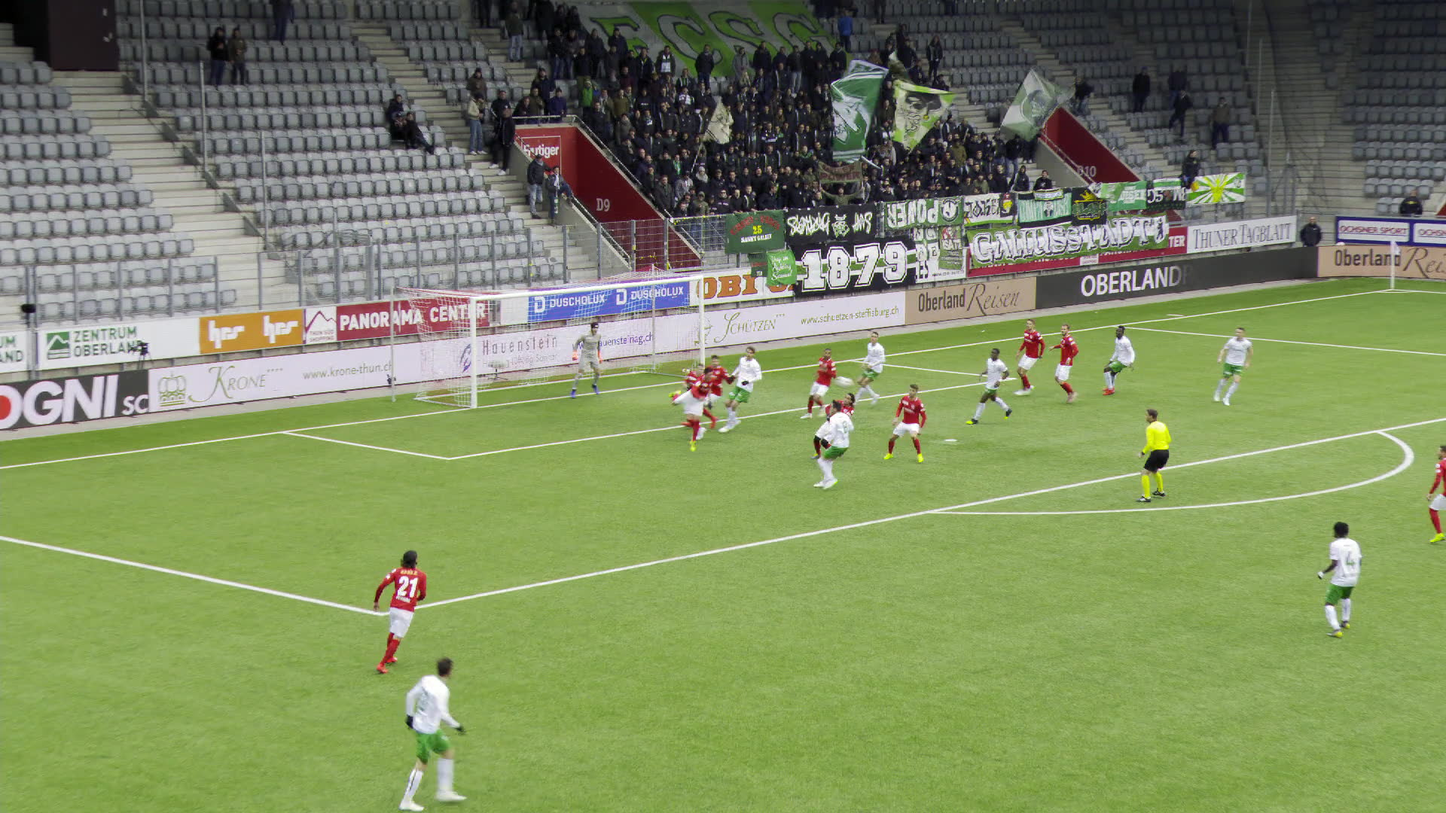ball: (819, 372, 838, 385)
player: (382, 651, 466, 807), (371, 546, 428, 674), (1312, 517, 1361, 636), (714, 343, 764, 434), (666, 367, 716, 450), (882, 379, 928, 463), (812, 399, 854, 490), (1207, 326, 1251, 405), (566, 320, 608, 401), (969, 347, 1012, 426), (810, 391, 859, 460), (1047, 323, 1087, 405), (1010, 318, 1048, 397), (801, 345, 841, 419), (686, 363, 724, 440), (1100, 323, 1137, 395), (703, 353, 735, 435), (856, 332, 888, 407), (1423, 440, 1445, 545)
referee: (1134, 406, 1171, 503)
